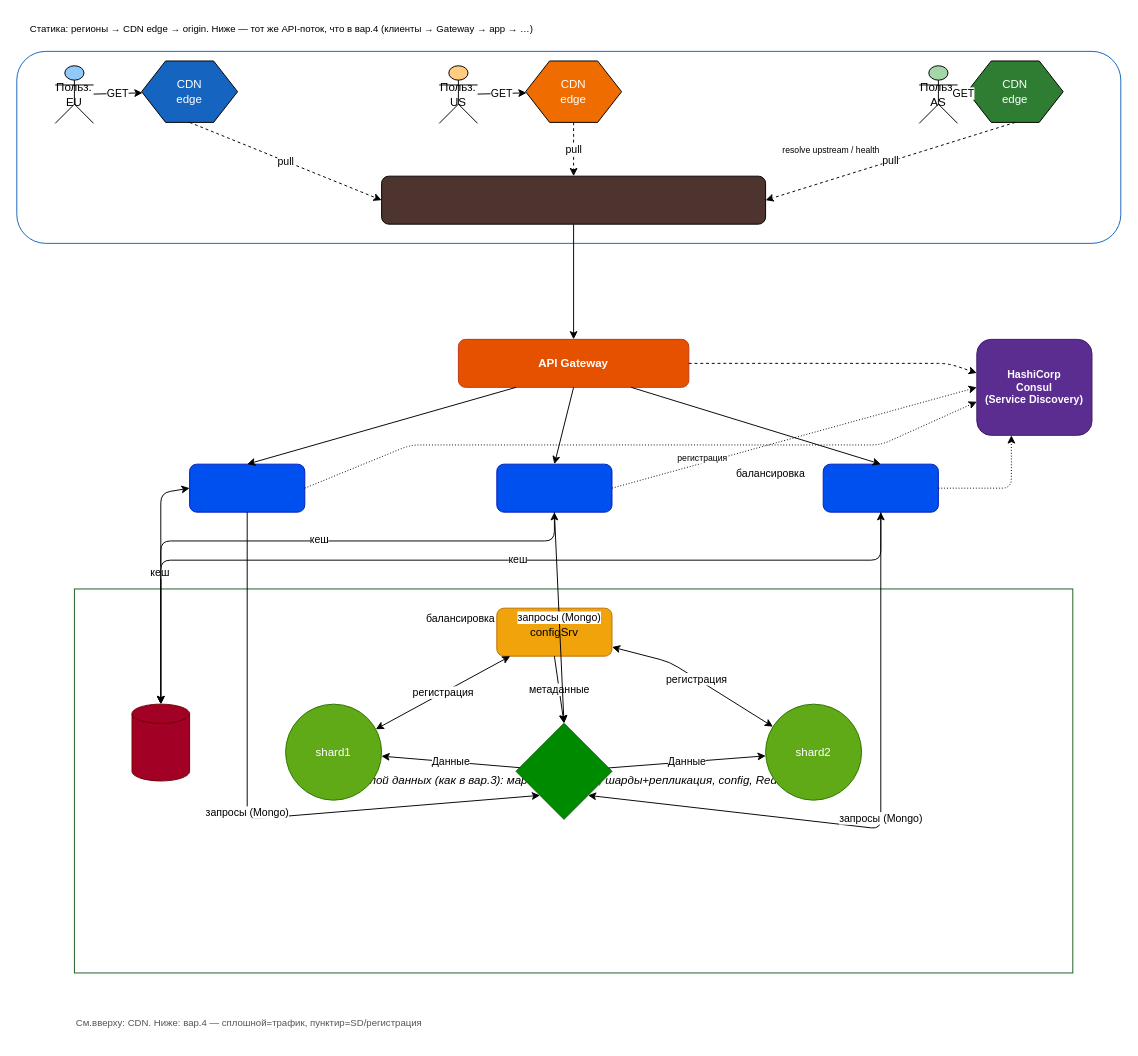
Image size: 1138x1056. Some labels were removed from this diagram. Each missing label, with the centre of its shape:
mongos: the point at 563,770
Origin server(веб): the point at 573,199
pymongo-app-1: the point at 247,487
pymongo-app-2: the point at 554,487
pymongo-app-3: the point at 880,487
Redis (кеш): the point at 160,742
